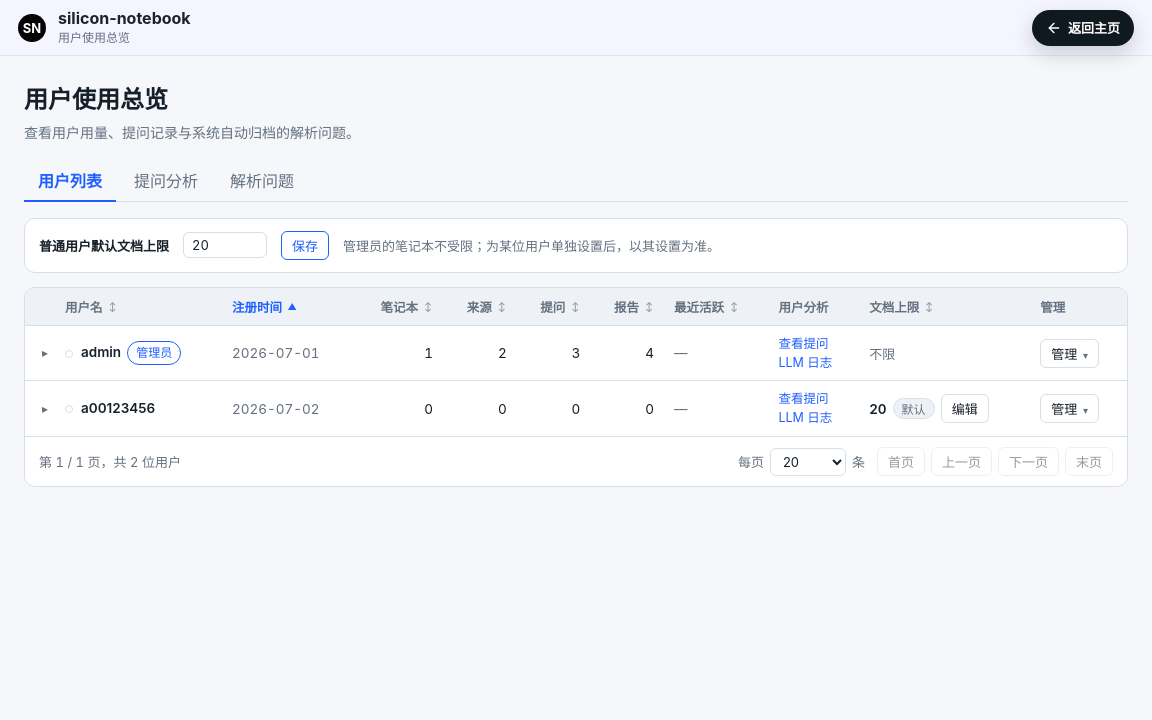
管理员可在用户总览中二次确认并授予管理员权限
Expected: the text "a00123456" is shown, 81,400 -> 155,416
Expected: the column heading "提问 ↕" is shown, 517,288 -> 590,325
Step 1. Click the button with aria-label "管理 a00123456" → [1070, 409], box 1040,394 -> 1099,423
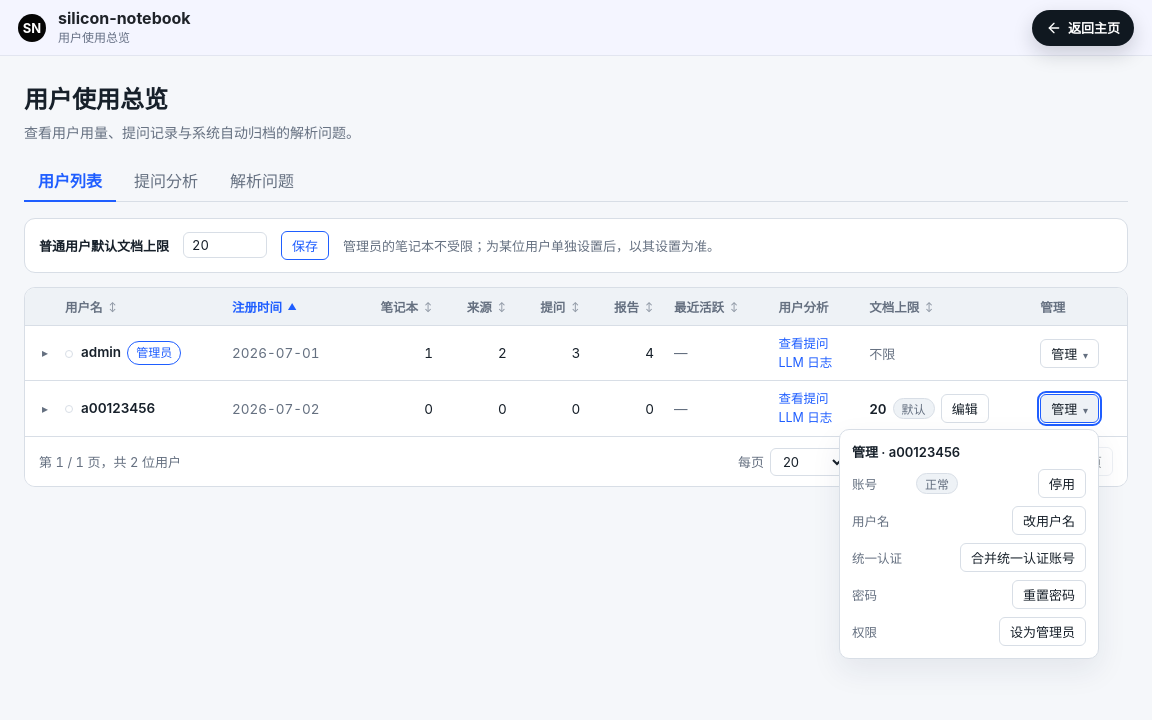
Step 2. Click the button "设为管理员" → [1042, 632], box 999,617 -> 1086,646
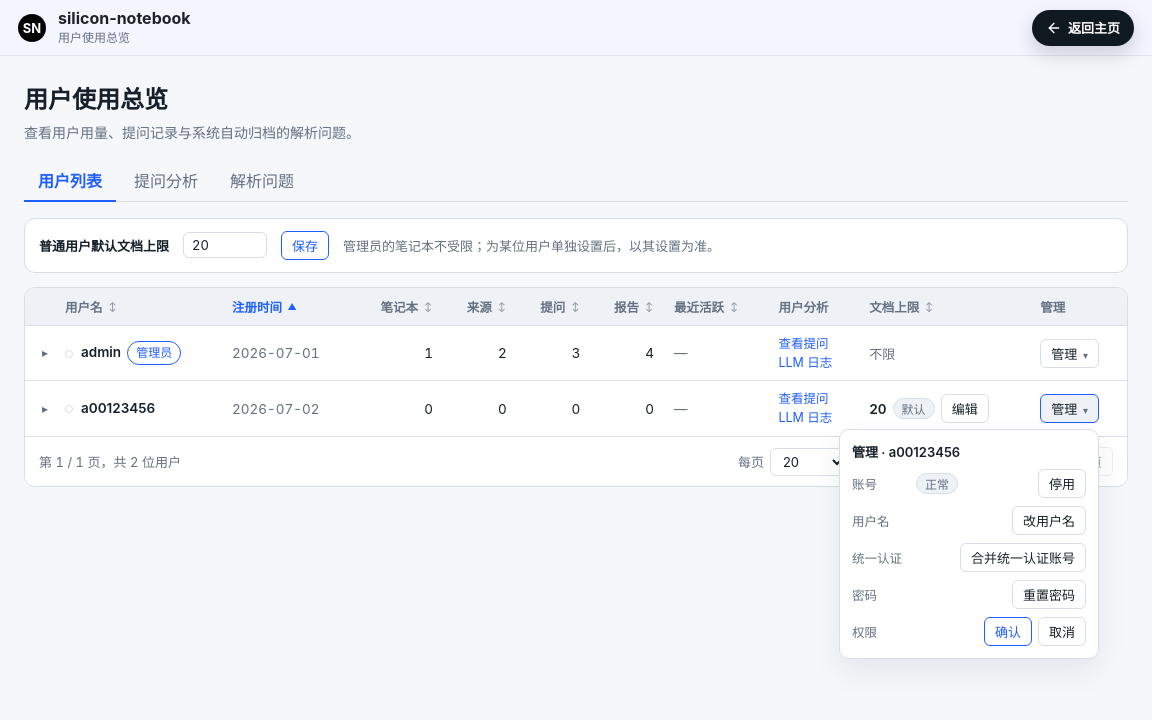
Step 3. Click the button "确认" → [1008, 632], box 984,617 -> 1032,646
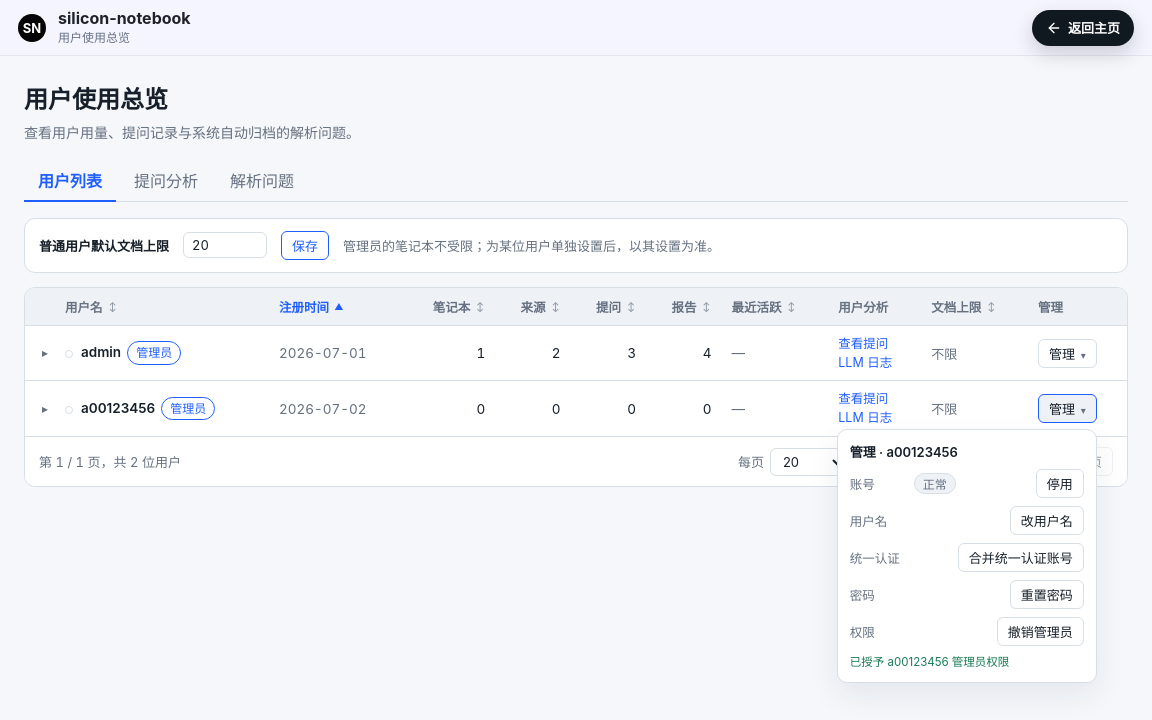
Result: the text "已授予 a00123456 管理员权限" is shown at 850,655 -> 1009,669
Result: the button "撤销管理员" is shown at 997,617 -> 1084,646
Result: the text "管理员" next to "2026-07-02" is shown at 170,401 -> 206,416
Step 4. Click the button "管理 ▾" in the row of "admin" → [1067, 353], box 1038,339 -> 1097,368
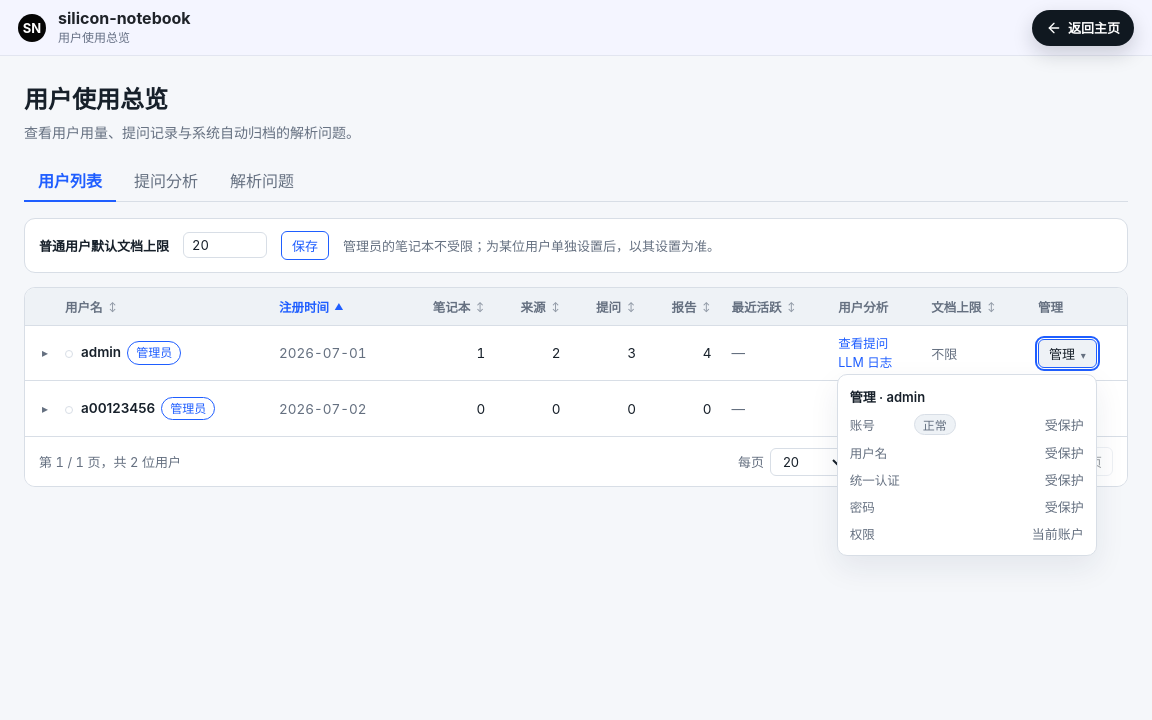
Result: the text "当前账户" is shown at 1032,524 -> 1084,543
